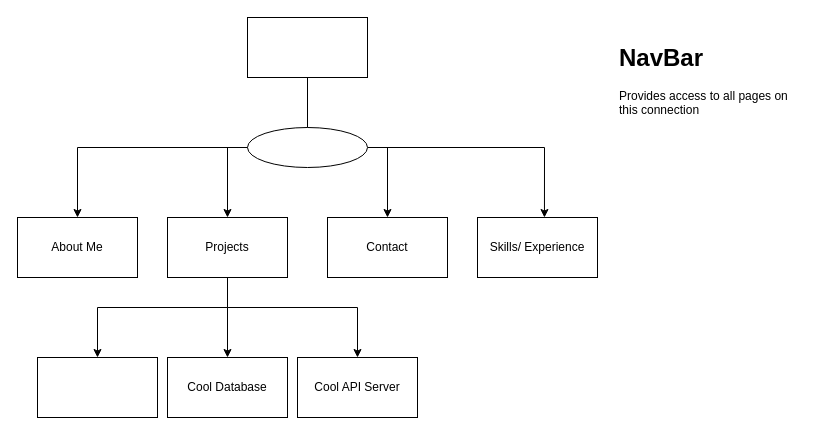
The diagram is 815 pixels wide and 435 high, and some of its shapes have lost their labels. Each missing label, with the centre of its shape:
Cool Website 01: [97,387]
Home: [307,47]
NavBar: [307,147]
